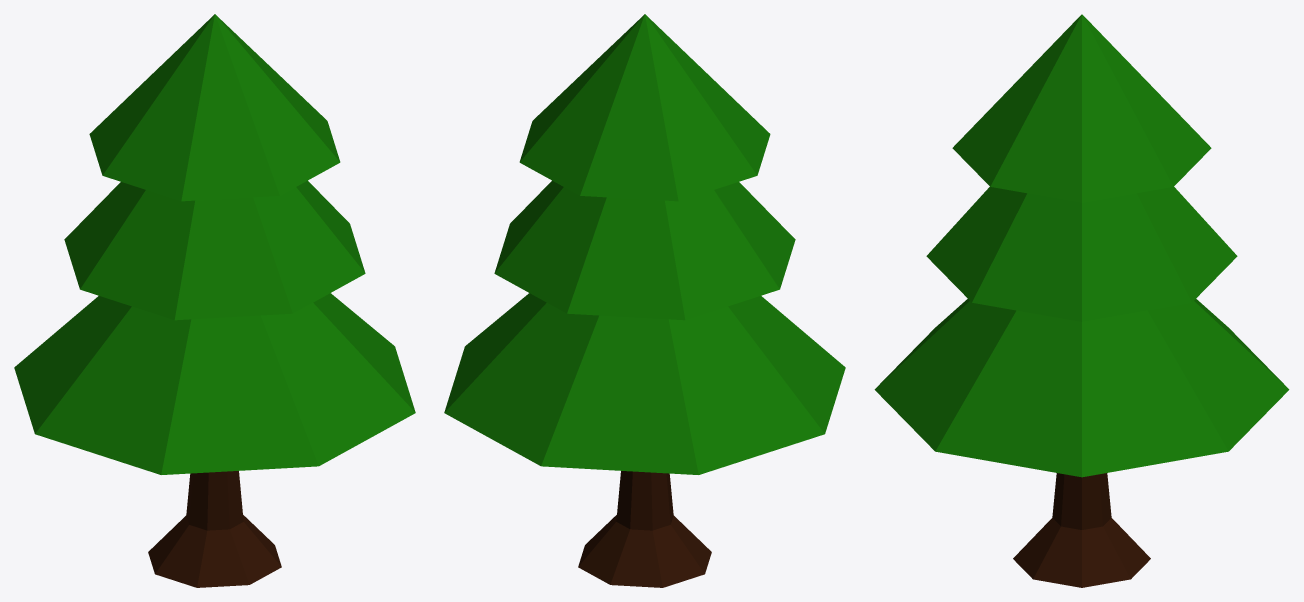
Rendered from BetterTree.fbx.
3 views of the same model, side by side, from view 1: azimuth 30°, elevation 25°; view 2: azimuth 150°, elevation 25°; view 3: azimuth 270°, elevation 25° (orthographic).
Parts seen in each view (by area): view 1: Cylinder; view 2: Cylinder; view 3: Cylinder.
Boxes of the visible parts, box(x1,y1,x2,y2) form: Cylinder: box(14, 14, 415, 587); Cylinder: box(444, 14, 845, 587); Cylinder: box(874, 14, 1289, 587).
Bounding box in the file's own units: 600 × 869 × 600.
